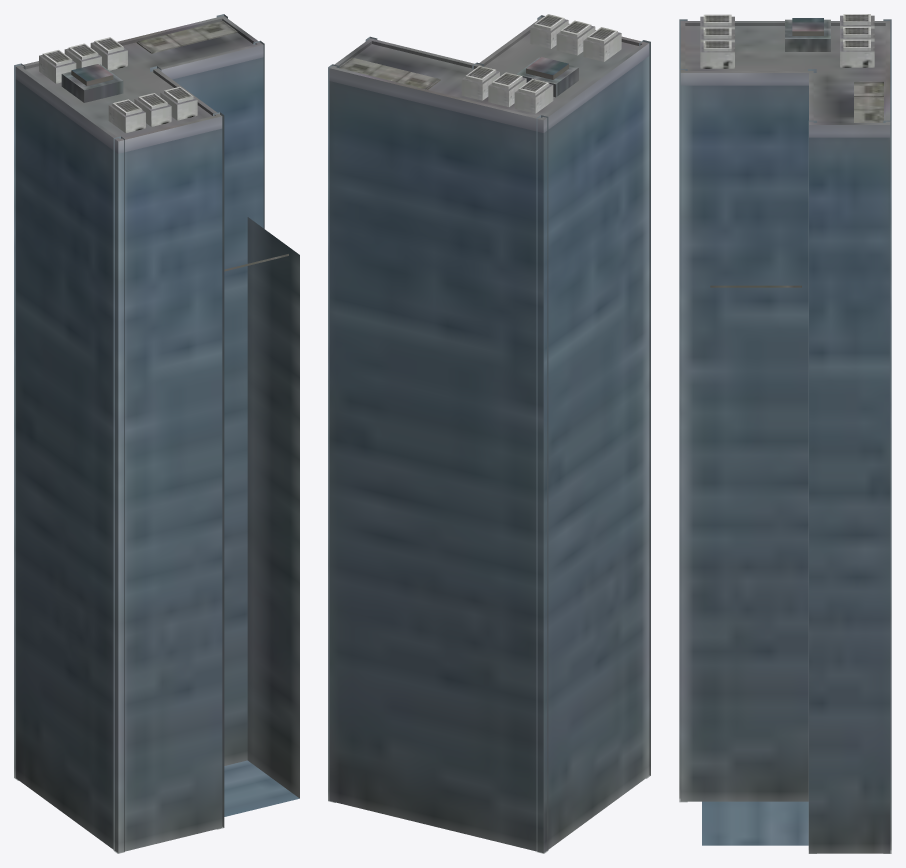
3 renders of one model, left to right at view 1: azimuth 30°, elevation 25°; view 2: azimuth 150°, elevation 25°; view 3: azimuth 270°, elevation 25°, orthographic. The views are drawn at different scales.
Size of the model in its own units: 0.3845 by 1.27 by 0.3291.
1 material, 1 textured.
